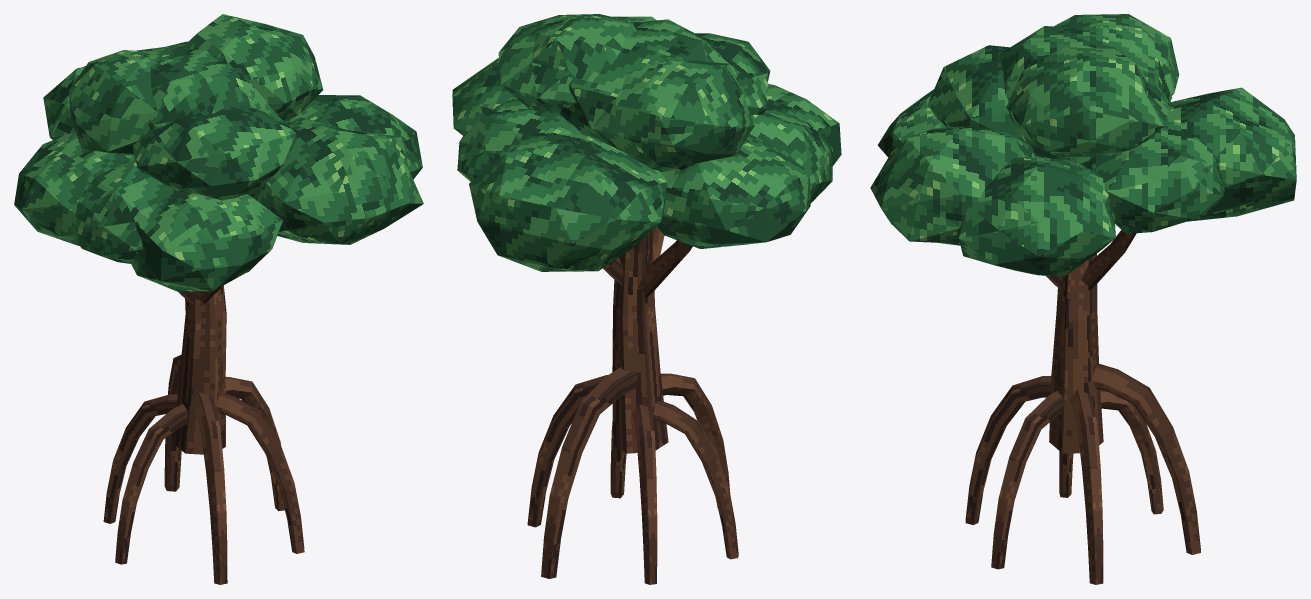
The model's file is tree_mangrove.glb.
The picture shows the model from 3 angles, left to right: view 1: azimuth 30°, elevation 25°; view 2: azimuth 150°, elevation 25°; view 3: azimuth 270°, elevation 25°; orthographic projection. The views are drawn at different scales.
Parts seen in each view (by area): view 1: tree_mangrove; view 2: tree_mangrove; view 3: tree_mangrove.
Boxes of the visible parts, x1,y1,x2,y2 form: tree_mangrove: (14, 14, 423, 584); tree_mangrove: (452, 14, 841, 584); tree_mangrove: (870, 14, 1296, 584).
Size of the model in its own units: 2.32 by 3 by 2.3.
2 materials, 2 textured.
